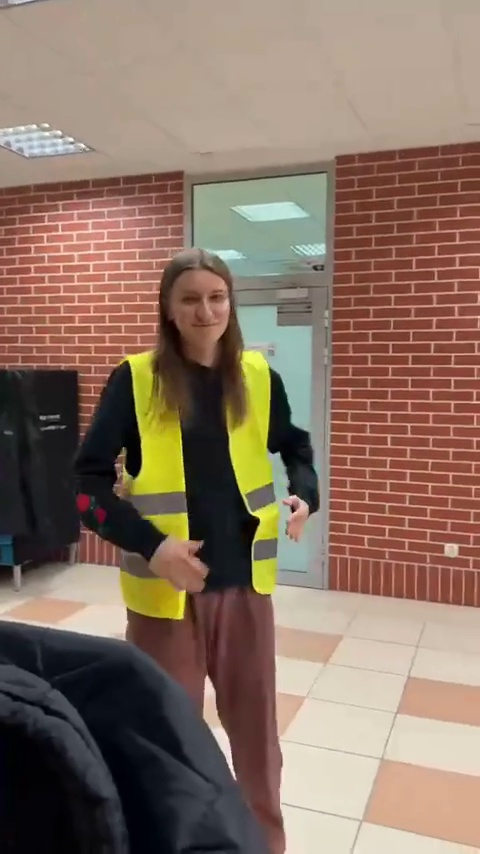vest: (81, 250, 313, 798)
